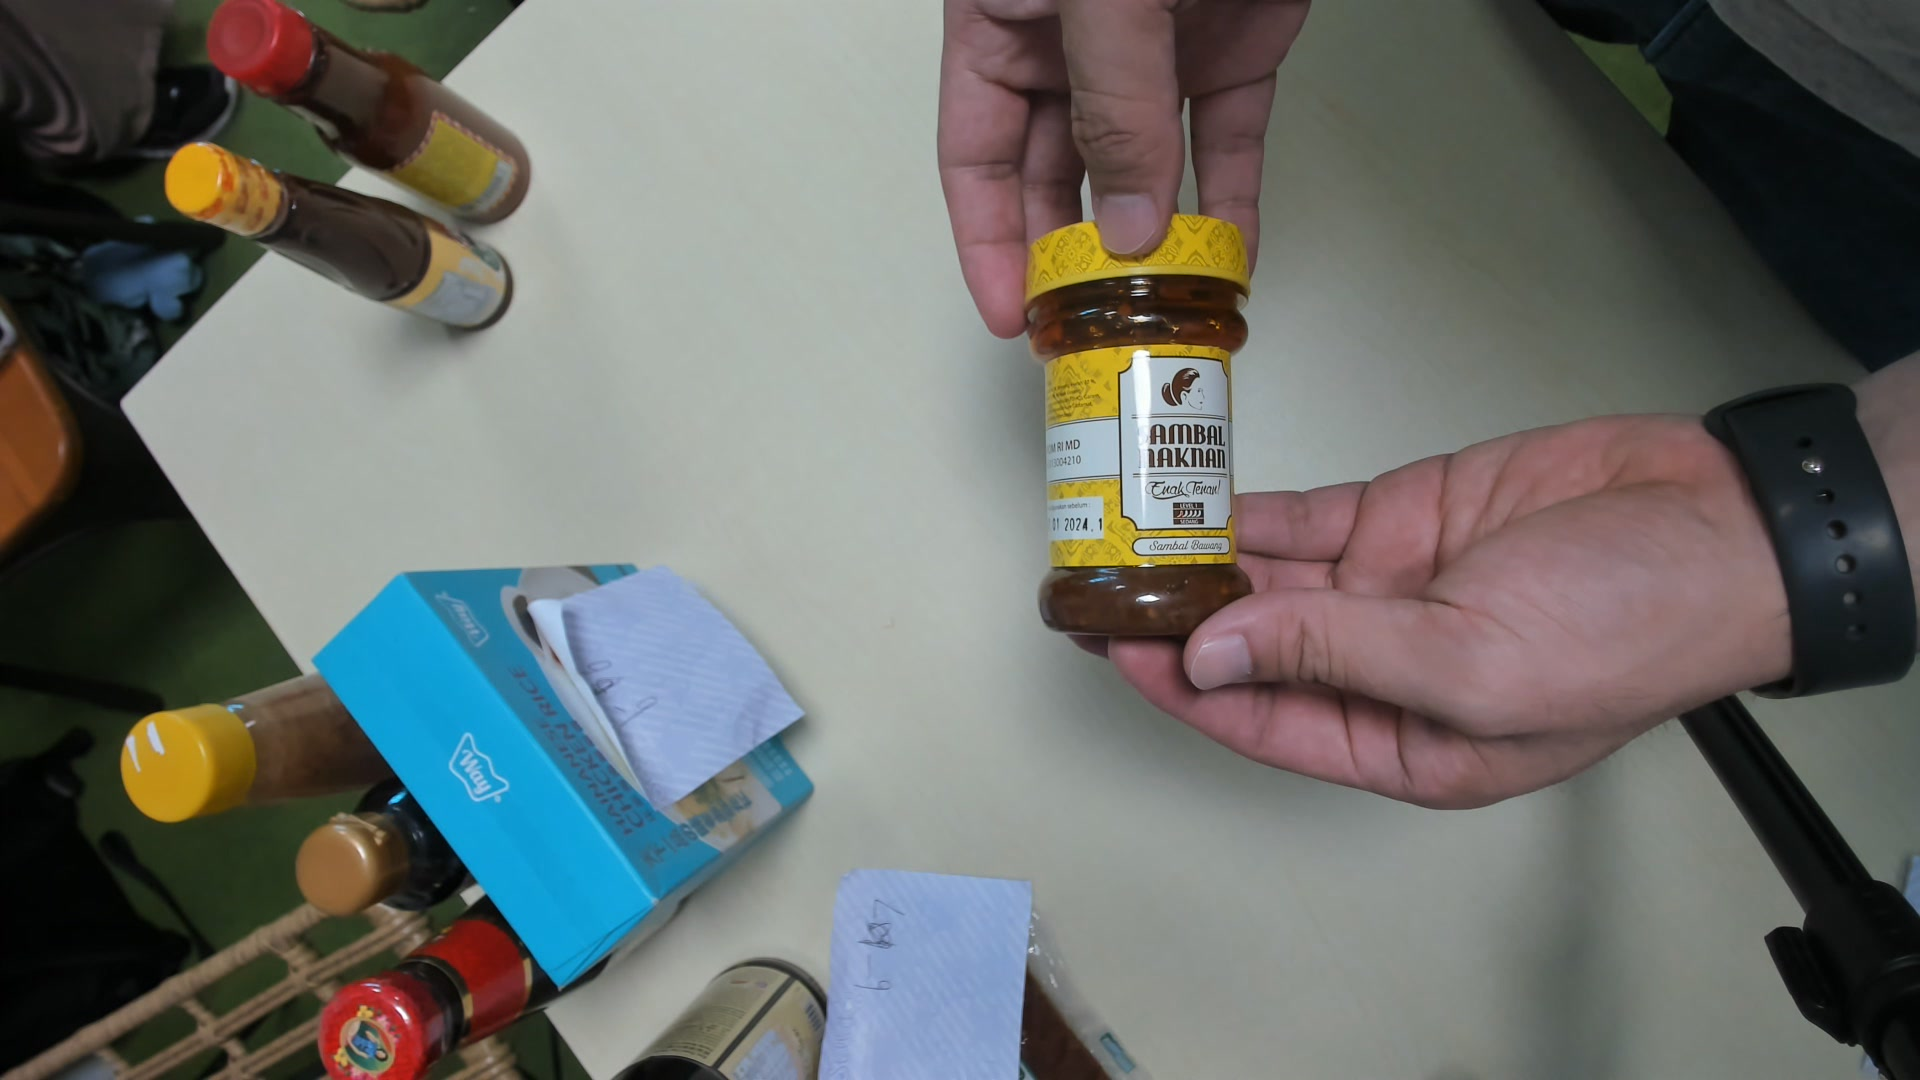KetchupChillSauce_100-199g_Halal_NonHealthy: (1021, 215, 1255, 650)
